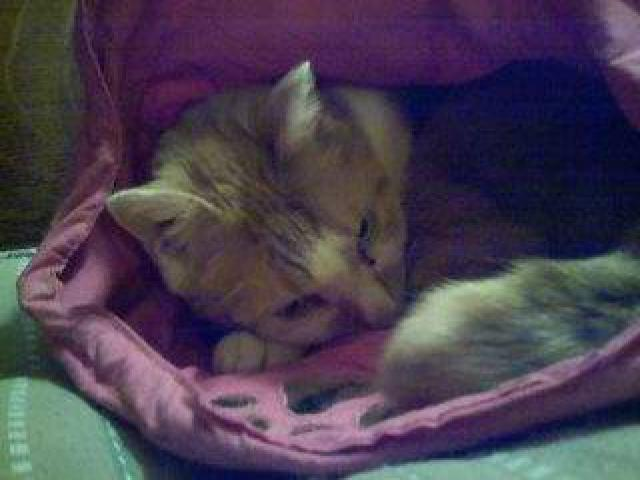cat: (97, 71, 457, 391)
